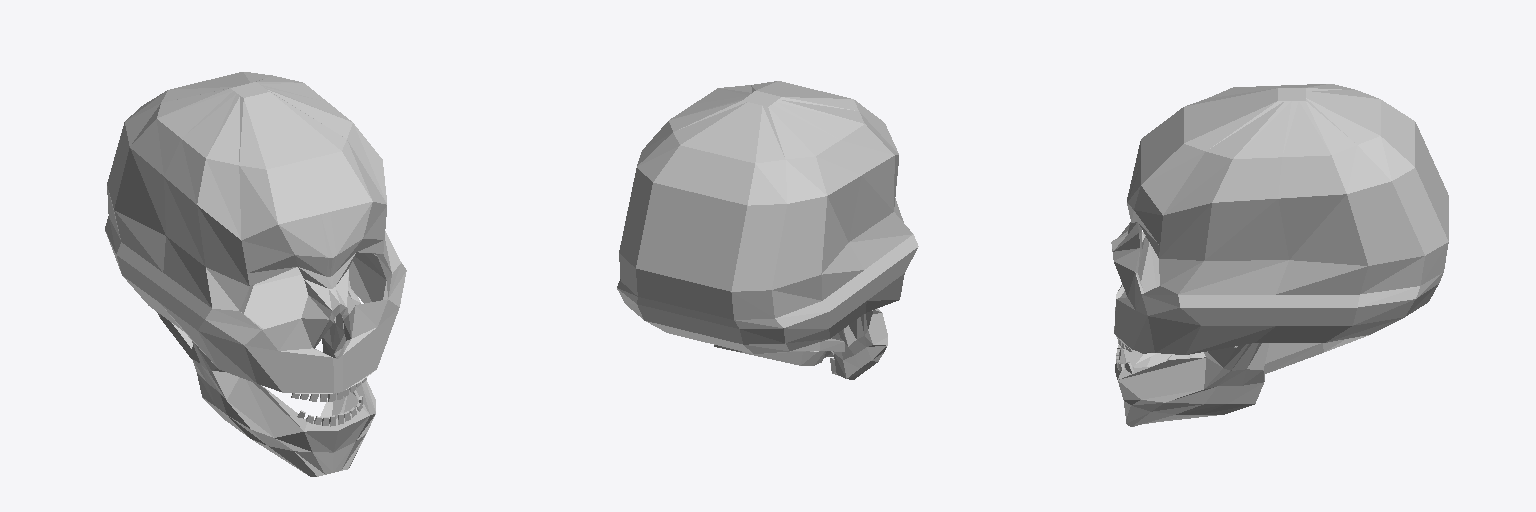
File: Skull2.obj
3 views of the same model, side by side, from view 1: azimuth 30°, elevation 25°; view 2: azimuth 150°, elevation 25°; view 3: azimuth 270°, elevation 25° (orthographic).
Parts seen in each view (by area): view 1: Cube_Cube.001, Cube.001_Cube.000; view 2: Cube_Cube.001, Cube.001_Cube.000; view 3: Cube_Cube.001, Cube.001_Cube.000.
Boxes of the visible parts, x1=… form: Cube_Cube.001: x1=105, y1=72, x2=406, y2=393; Cube.001_Cube.000: x1=192, y1=277, x2=375, y2=476; Cube_Cube.001: x1=617, y1=81, x2=918, y2=353; Cube.001_Cube.000: x1=714, y1=308, x2=887, y2=379; Cube_Cube.001: x1=1111, y1=84, x2=1448, y2=373; Cube.001_Cube.000: x1=1115, y1=343, x2=1268, y2=426.
Bounding box in the file's own units: 3.5 × 5.35 × 5.06.